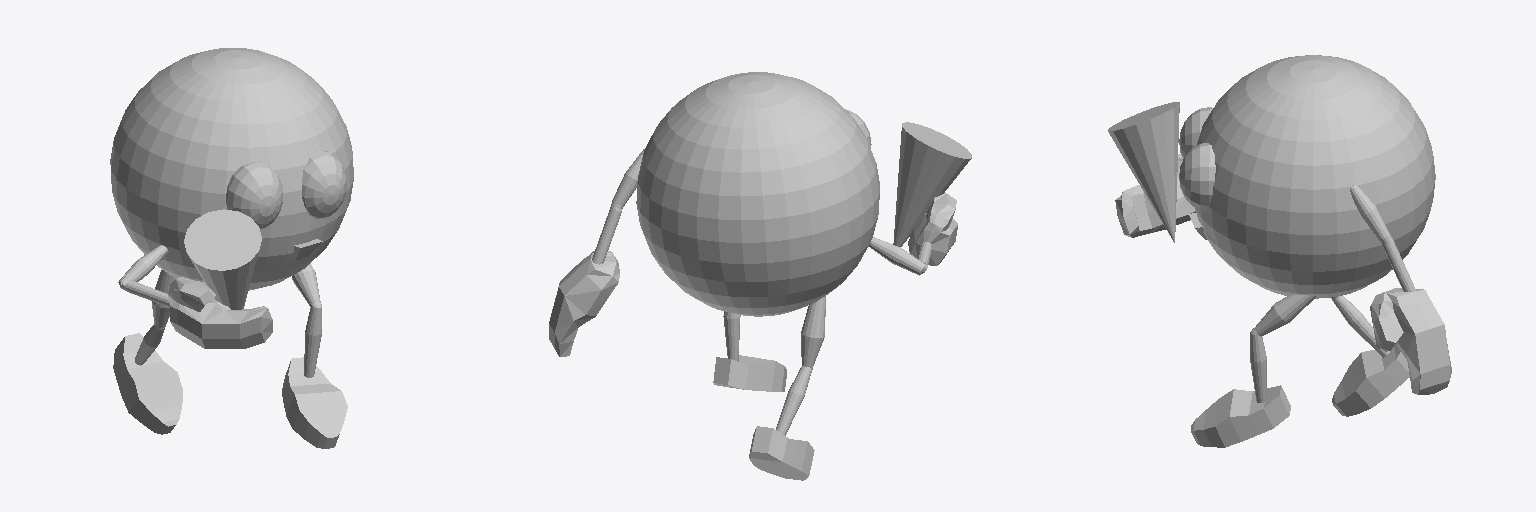
File: walk2run_000021.obj
3 views of the same model, side by side, from view 1: azimuth 30°, elevation 25°; view 2: azimuth 150°, elevation 25°; view 3: azimuth 270°, elevation 25° (orthographic).
Visible parts, largest first — view 1: Rusko_Sphere; view 2: Rusko_Sphere; view 3: Rusko_Sphere.
Part boxes in pixels (x1,y1,x2,y2): Rusko_Sphere: (110,48,353,448); Rusko_Sphere: (549,72,971,480); Rusko_Sphere: (1108,55,1451,447).
Bounding box in the file's own units: 5.57 × 6.72 × 5.63.